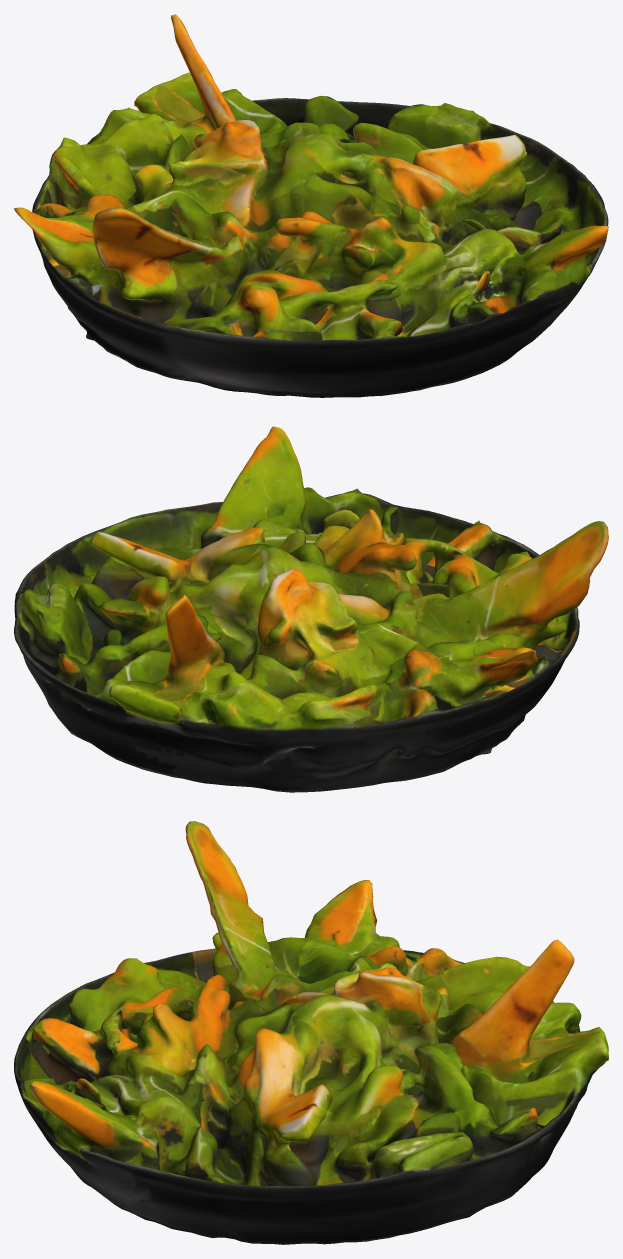
File: EnsaladaCesar.glb
The picture shows the model from 3 angles, top to bottom: view 1: azimuth 30°, elevation 25°; view 2: azimuth 150°, elevation 25°; view 3: azimuth 270°, elevation 25°; orthographic projection.
Bounding box in the file's own units: 1.99 × 0.7253 × 1.96.
1 material, 1 textured.
